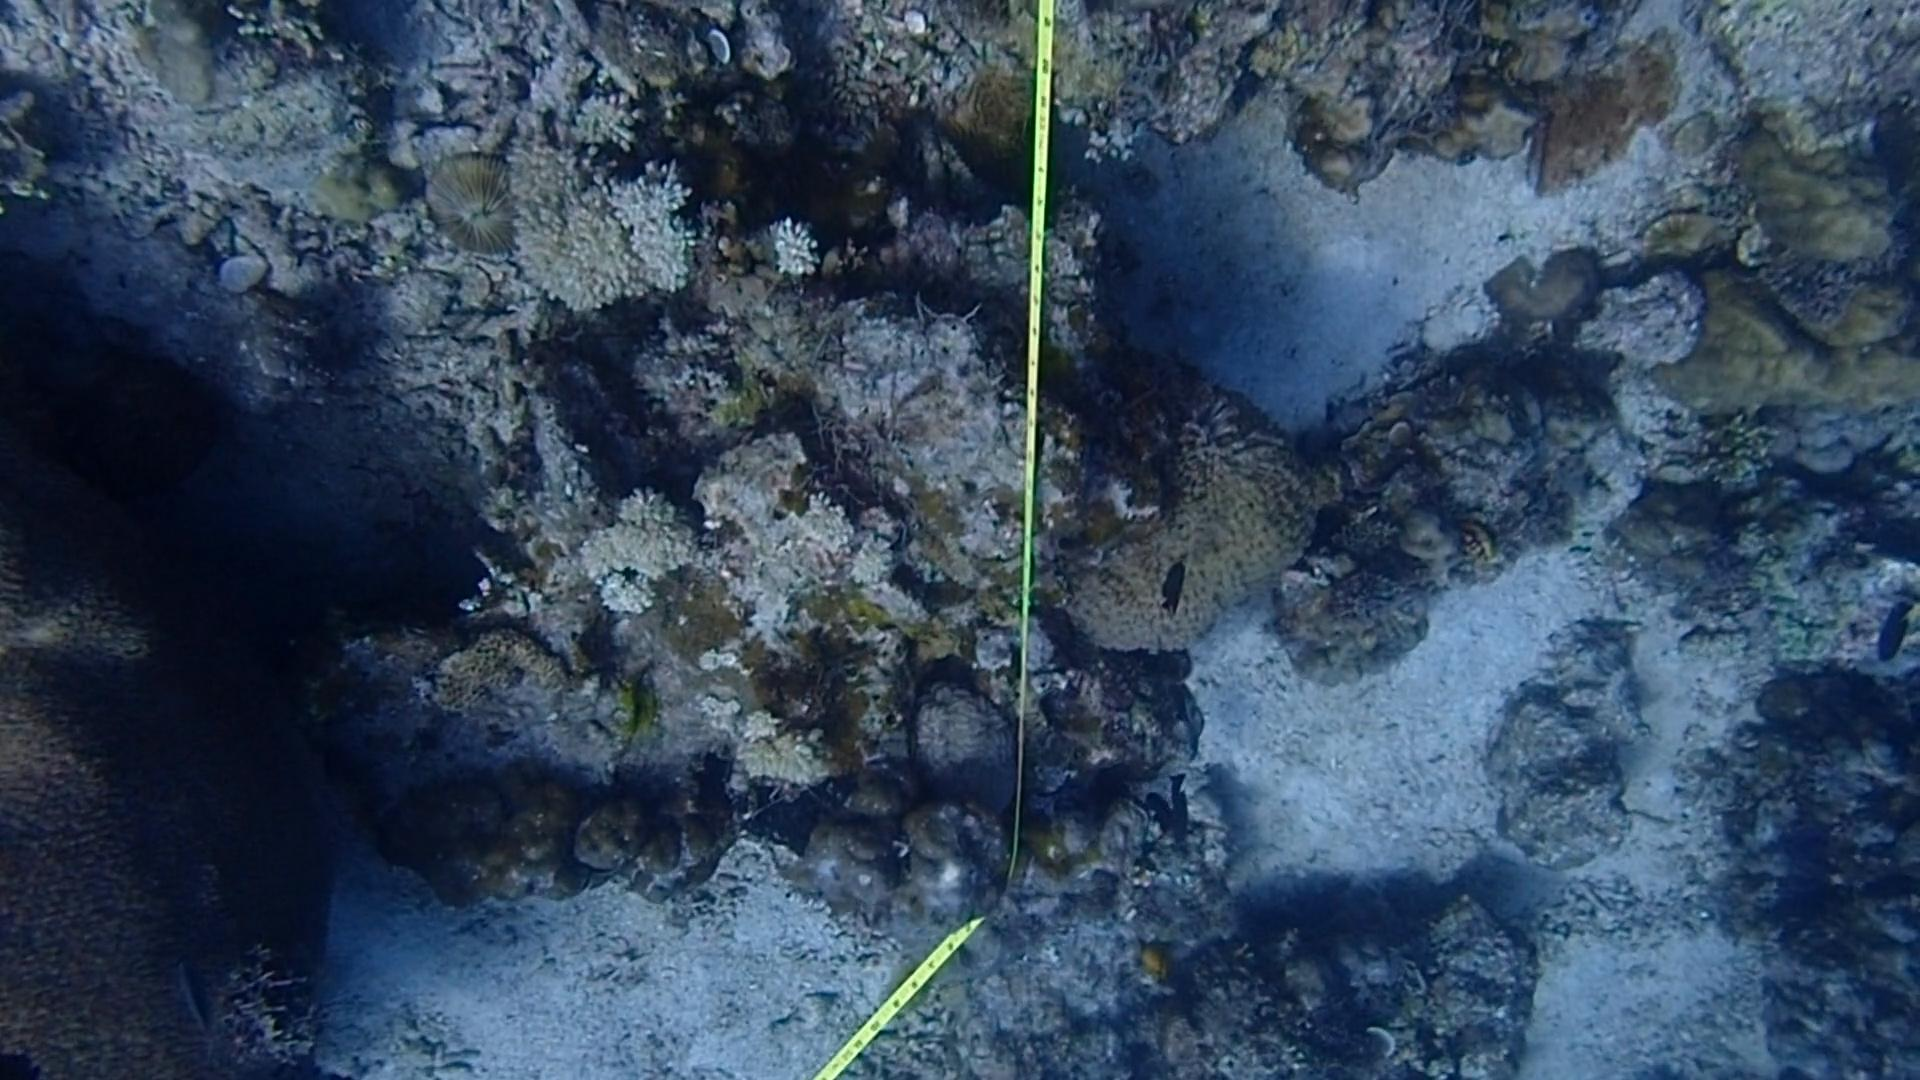Dark Fish: (1291, 493, 1358, 570), (1855, 856, 1920, 922), (1154, 770, 1204, 855), (1146, 553, 1197, 629), (1869, 585, 1915, 670), (1134, 785, 1188, 844), (1149, 683, 1195, 732)
